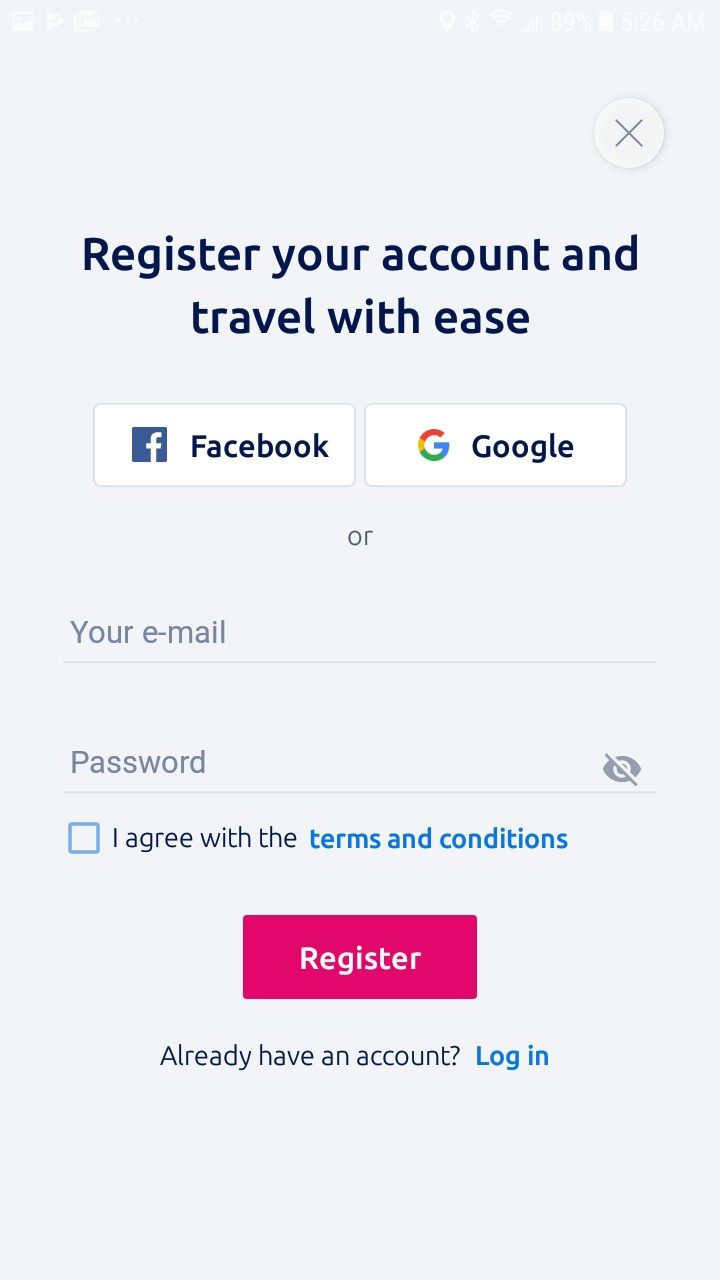CheckedTextView: (69, 821, 569, 855)
EditText: (63, 619, 658, 665), (63, 749, 658, 794)
Icon: (594, 98, 665, 170), (603, 752, 642, 787)
Text: (84, 234, 638, 336), (114, 826, 569, 853), (160, 1043, 461, 1071), (71, 620, 226, 645), (72, 750, 206, 775), (476, 1044, 549, 1071), (347, 530, 374, 547)
TextButton: (94, 402, 357, 488), (365, 403, 628, 488), (244, 915, 478, 1000)
UpperTaskBar: (1, 1, 720, 43)
